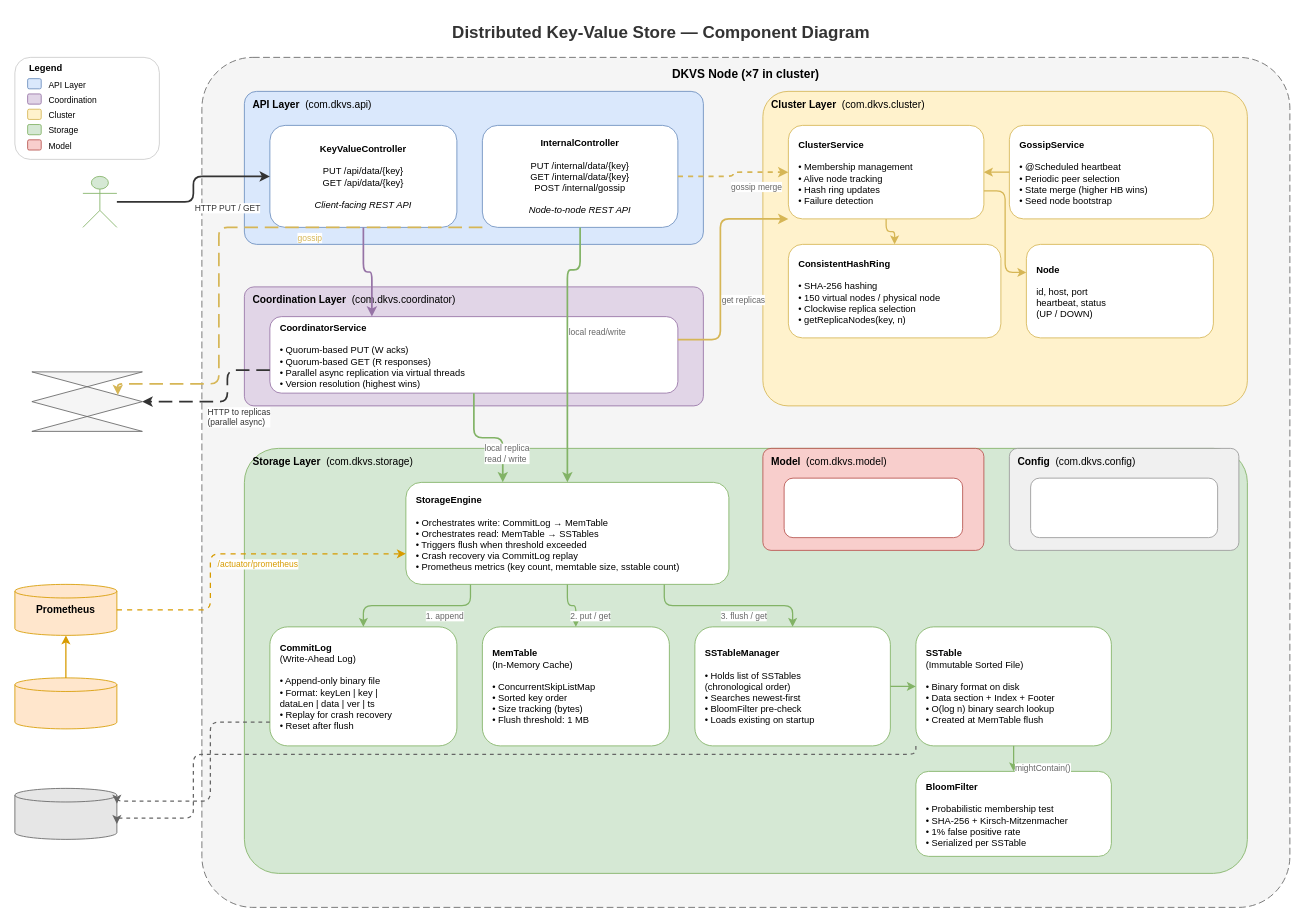
Some shapes in this 1305 by 922 pixel diagram are drawn without their labels. Here are the shapes that lost their labels. From the top down, the centre of each, then its label:
At point 99,201: "Client".
At point 86,401: "Other DKVS Nodes".
At point 873,507: "VersionedValue (record) byte[] data long version long timestamp".
At point 1124,507: "DkvsProperties N, W, R, seeds, nodeId dataDir, gossipInterval, ...".
At point 65,703: "Grafana".
At point 65,813: "Disk".
